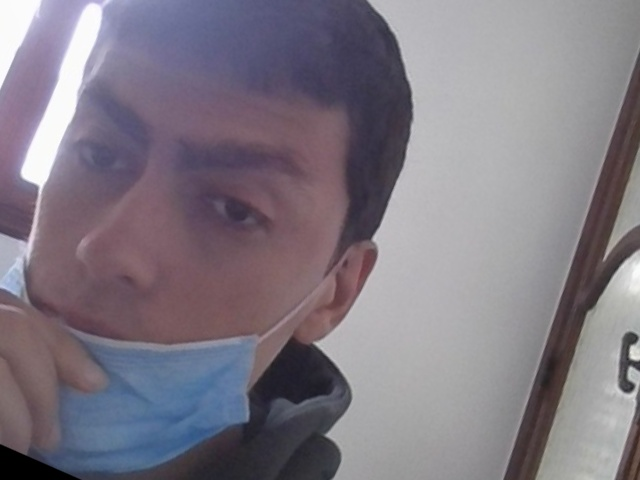mask_weared_incorrect: (13, 27, 342, 471)
